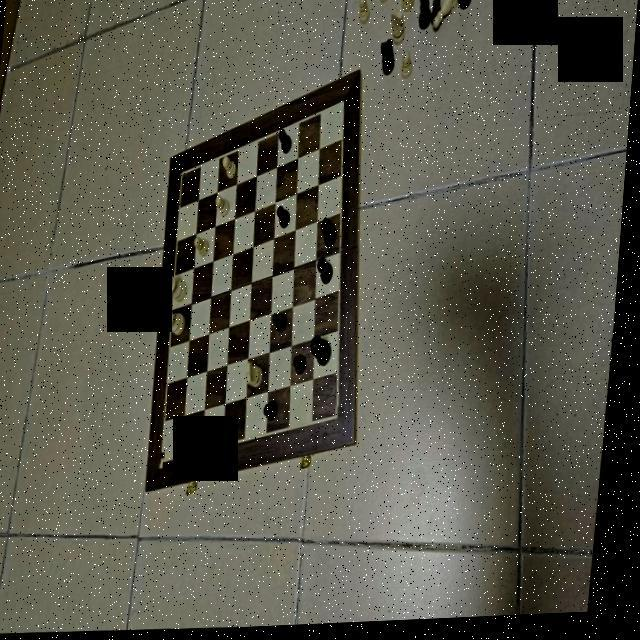chess-table-corners: (340, 409, 347, 425), (165, 453, 171, 469), (182, 169, 188, 182), (341, 98, 347, 111)
